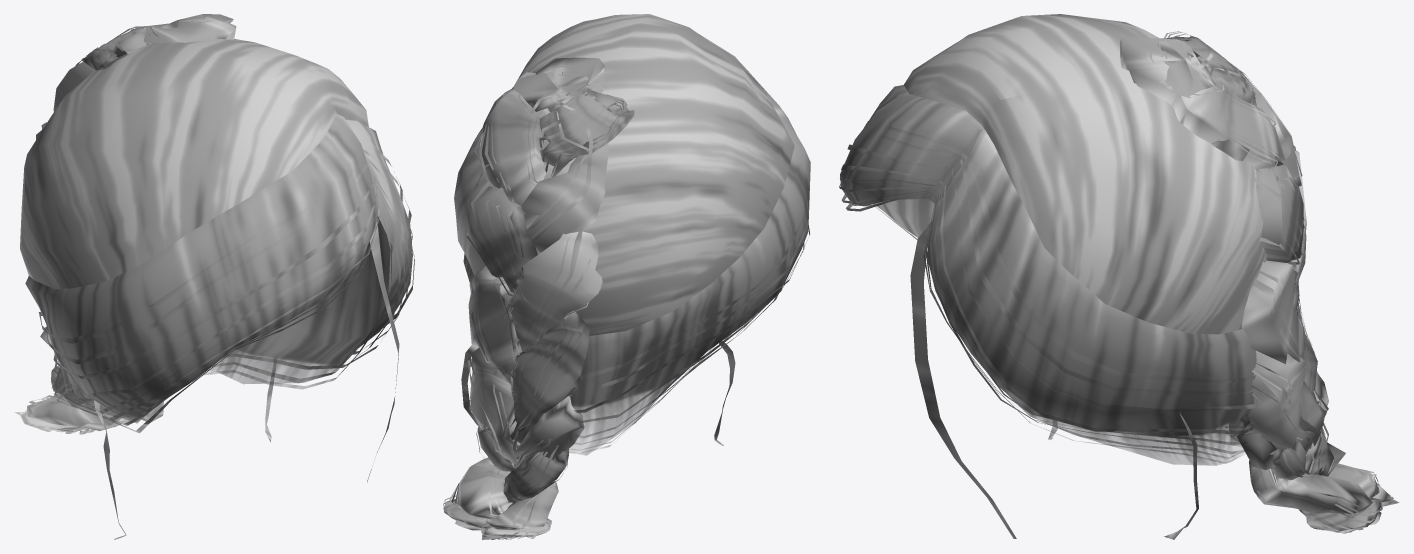
The model's file is daz_hair_unkempt_french_braid.glb.
The picture shows the model from 3 angles, left to right: view 1: azimuth 30°, elevation 25°; view 2: azimuth 150°, elevation 25°; view 3: azimuth 270°, elevation 25°; orthographic projection. The views are drawn at different scales.
Parts seen in each view (by area): view 1: daz_hair_unkempt_french_braid; view 2: daz_hair_unkempt_french_braid; view 3: daz_hair_unkempt_french_braid.
Boxes of the visible parts, x1,y1,x2,y2 form: daz_hair_unkempt_french_braid: (15,14,414,539); daz_hair_unkempt_french_braid: (443,14,810,539); daz_hair_unkempt_french_braid: (839,14,1399,539).
Size of the model in its own units: 0.1828 by 0.2536 by 0.2708.
Materials: 1 (1 with a texture image).
